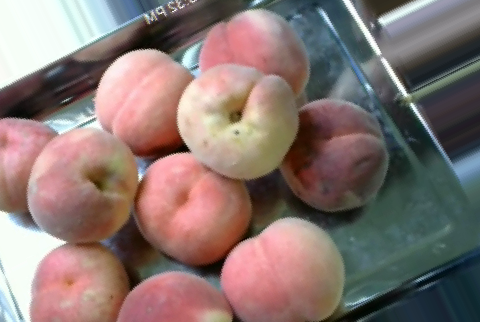Peach: (175, 63, 295, 179), (25, 126, 140, 243), (133, 149, 253, 259), (220, 215, 344, 321), (277, 99, 386, 212), (95, 48, 192, 156), (198, 8, 309, 97), (27, 240, 130, 322), (112, 272, 234, 322), (0, 117, 57, 216)
